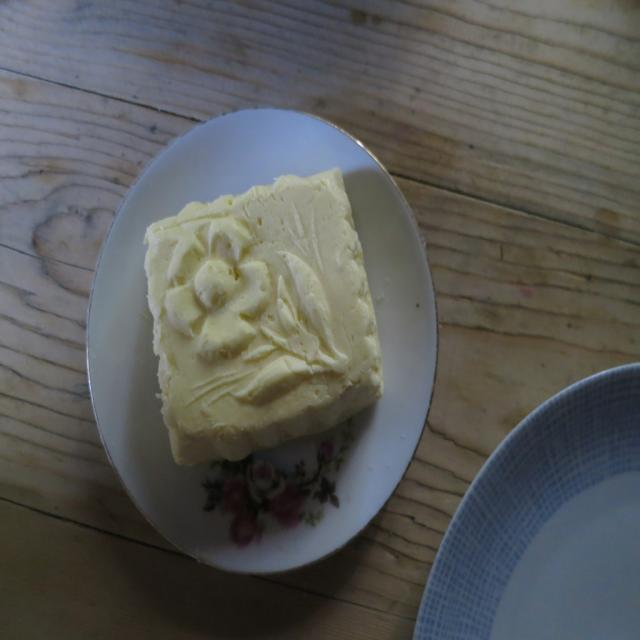non-organic waste: (80, 97, 438, 588)
